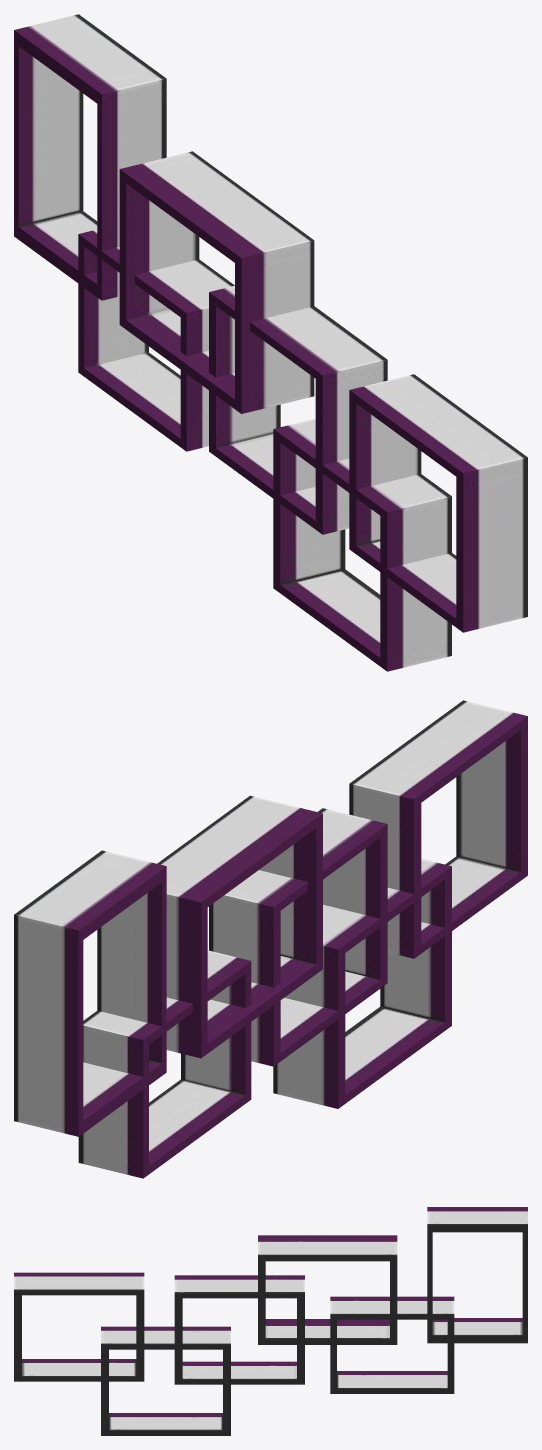
The model's file is quadri sopra divano.FBX.
3 renders of one model, top to bottom at view 1: azimuth 30°, elevation 25°; view 2: azimuth 150°, elevation 25°; view 3: azimuth 270°, elevation 25°, orthographic. The views are drawn at different scales.
Visible parts, largest first — view 1: quadro sopra divano; view 2: quadro sopra divano; view 3: quadro sopra divano.
Boxes of the visible parts, x1,y1,x2,y2 form: quadro sopra divano: (14,14,527,671); quadro sopra divano: (14,700,527,1178); quadro sopra divano: (14,1207,527,1435).
Size of the model in its own units: 0.2304 by 1.11 by 2.45.
